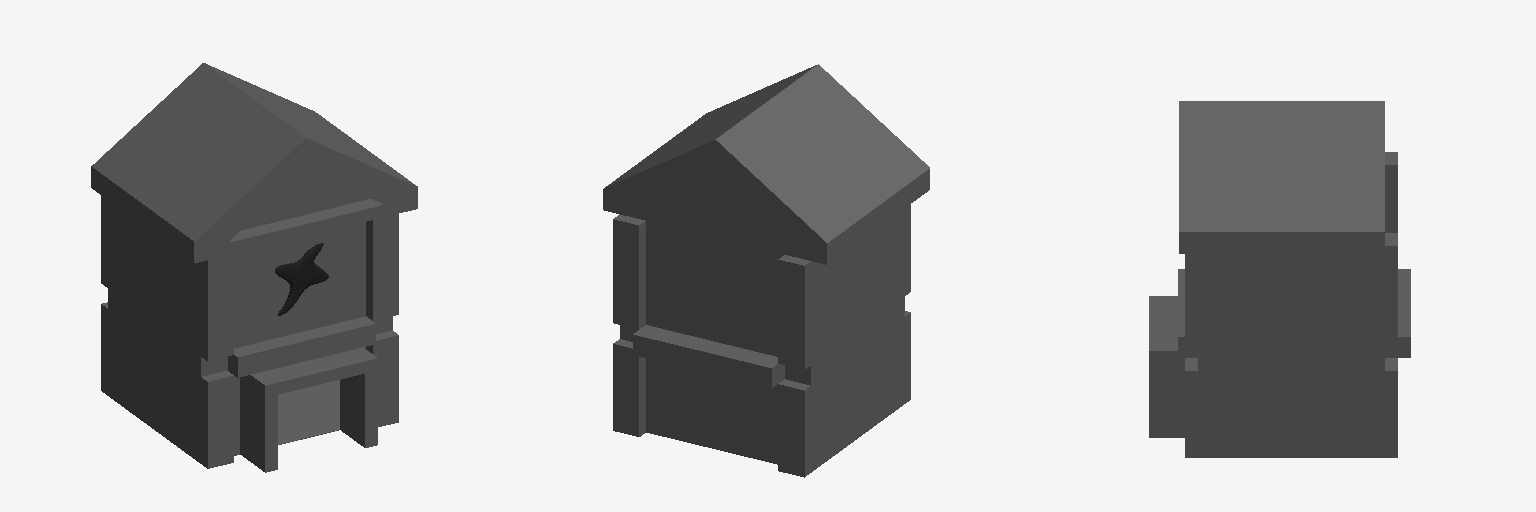
File: temple.obj
3 views of the same model, side by side, from view 1: azimuth 30°, elevation 25°; view 2: azimuth 150°, elevation 25°; view 3: azimuth 270°, elevation 25° (orthographic).
Parts seen in each view (by area): view 1: Cube_Cube.003; view 2: Cube_Cube.003; view 3: Cube_Cube.003.
Boxes of the visible parts, <box> form: Cube_Cube.003: <box>91,63,417,472</box>; Cube_Cube.003: <box>603,64,929,477</box>; Cube_Cube.003: <box>1149,101,1410,457</box>.
Size of the model in its own units: 2.77 by 3.66 by 2.81.